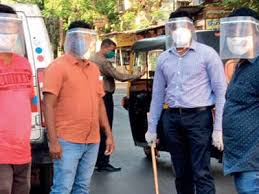mask: (221, 12, 256, 62), (62, 25, 98, 62), (1, 6, 24, 56), (168, 12, 194, 50), (101, 39, 118, 61)
